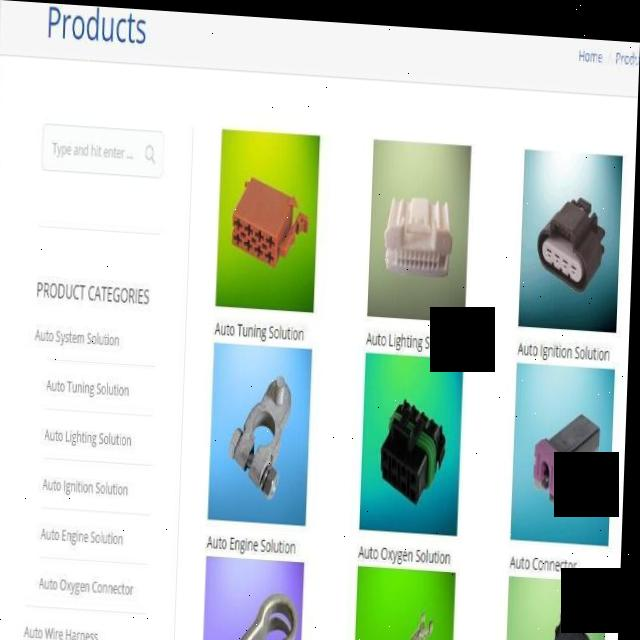connector: (384, 394, 447, 498), (539, 190, 605, 282), (538, 406, 603, 495), (234, 174, 300, 261)
